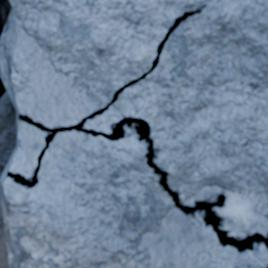brick: (0, 0, 267, 237), (0, 127, 267, 267)
crack: (0, 2, 267, 252), (0, 0, 13, 40), (0, 59, 7, 100)
